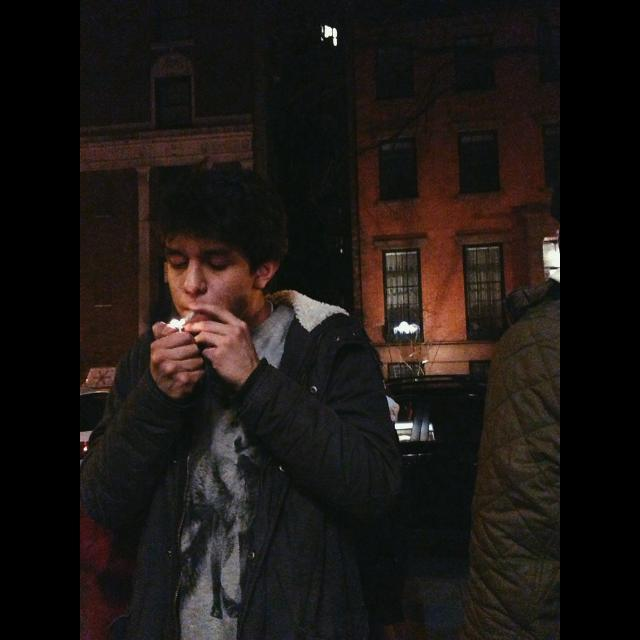rokok: (168, 312, 190, 332)
